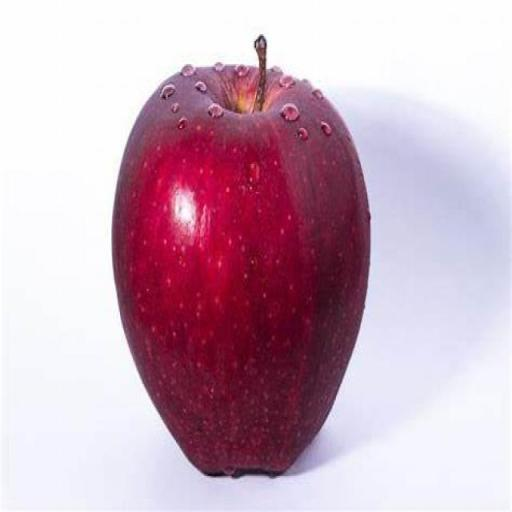fruit: (112, 37, 368, 473)
